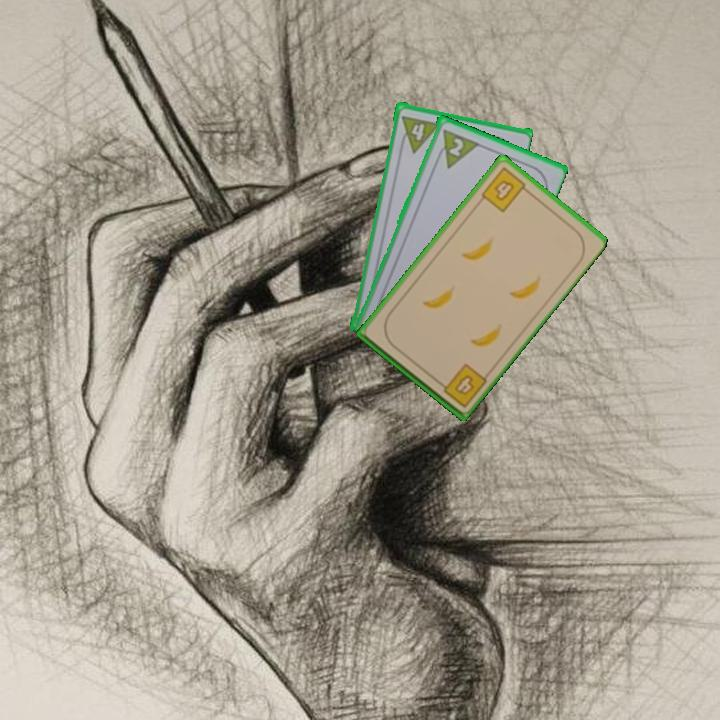2p: (445, 134, 466, 159)
4b: (477, 163, 533, 215), (434, 360, 489, 411)
4p: (407, 118, 441, 154)
